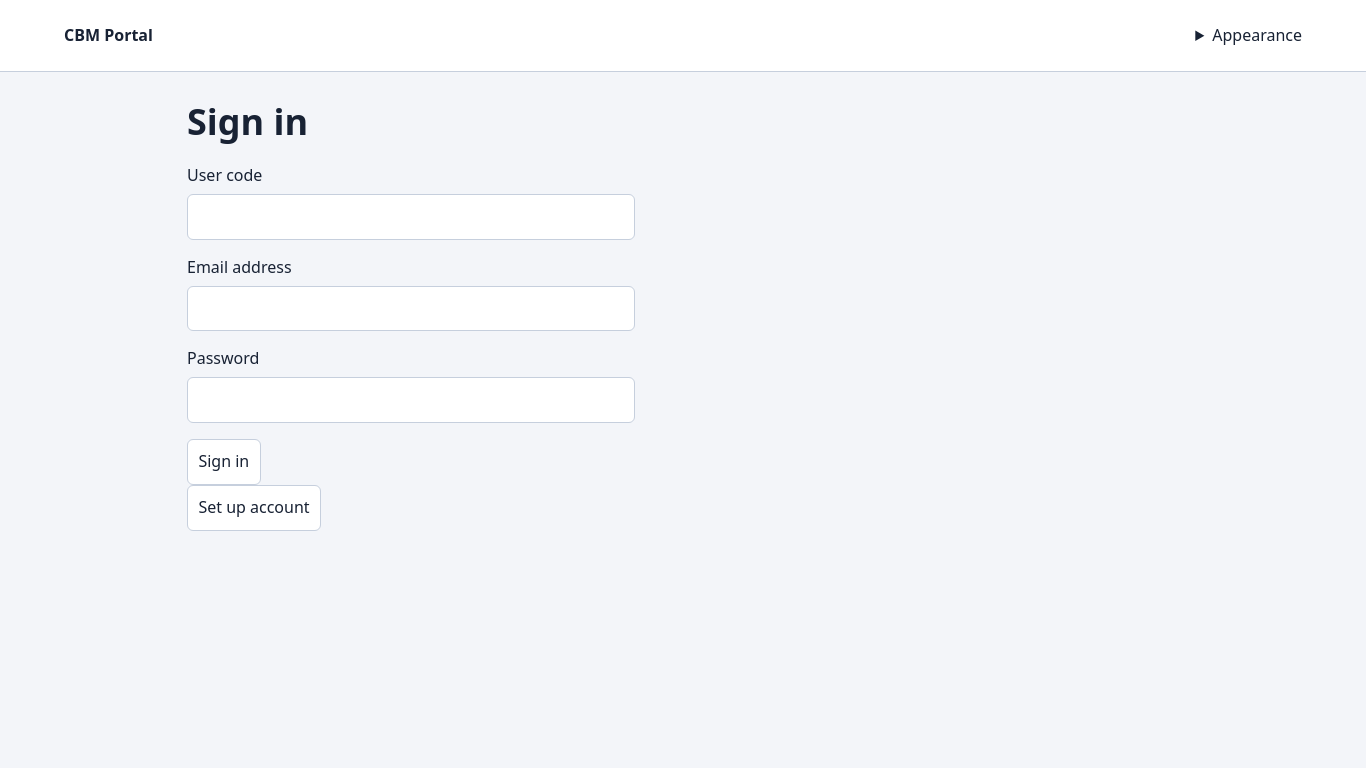
Scenario: enrolls a required authenticator before opening the workspace
Submit the form, box [187,164,635,485]
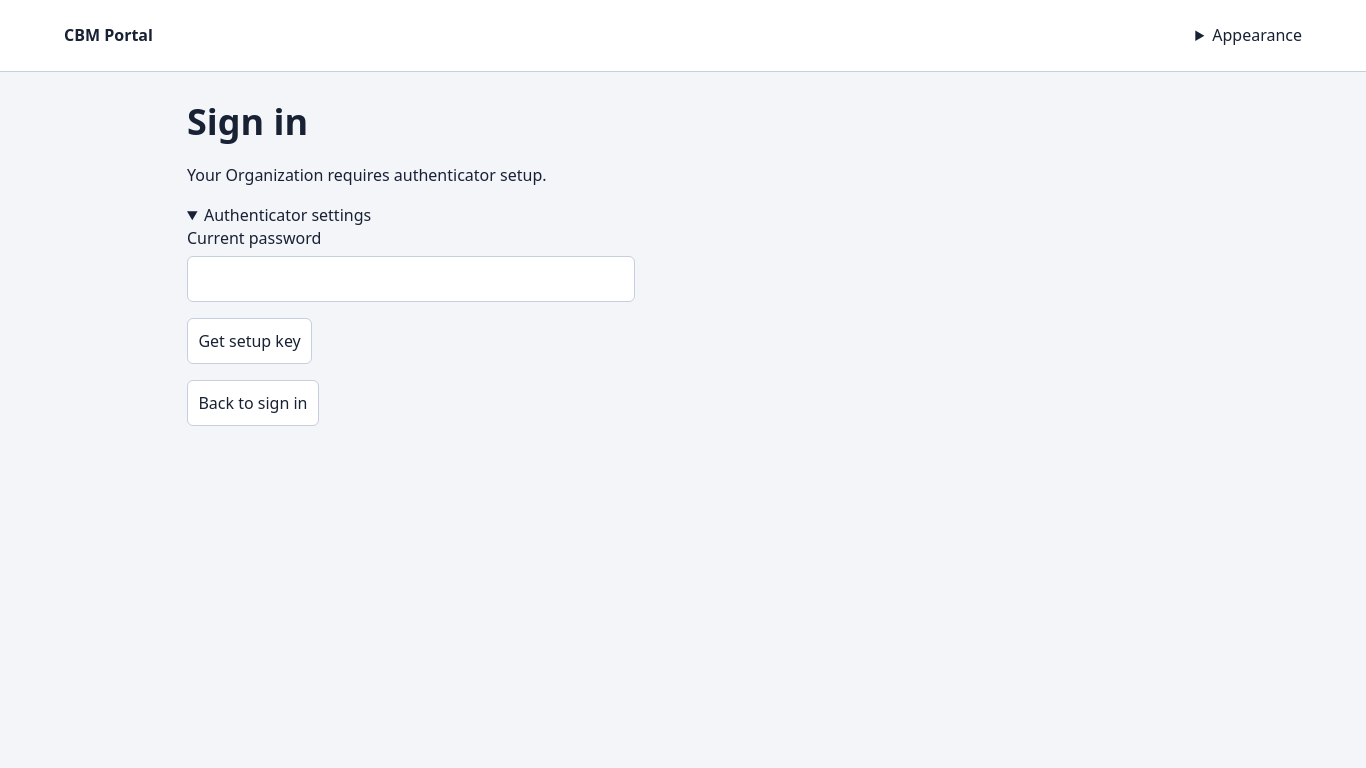
Expected: the text "Your Organization requires authenticator setup" is shown, [187,164,546,186]
In the password field labelled "Current password": (411, 279) [187,256,635,302], type "test-password"
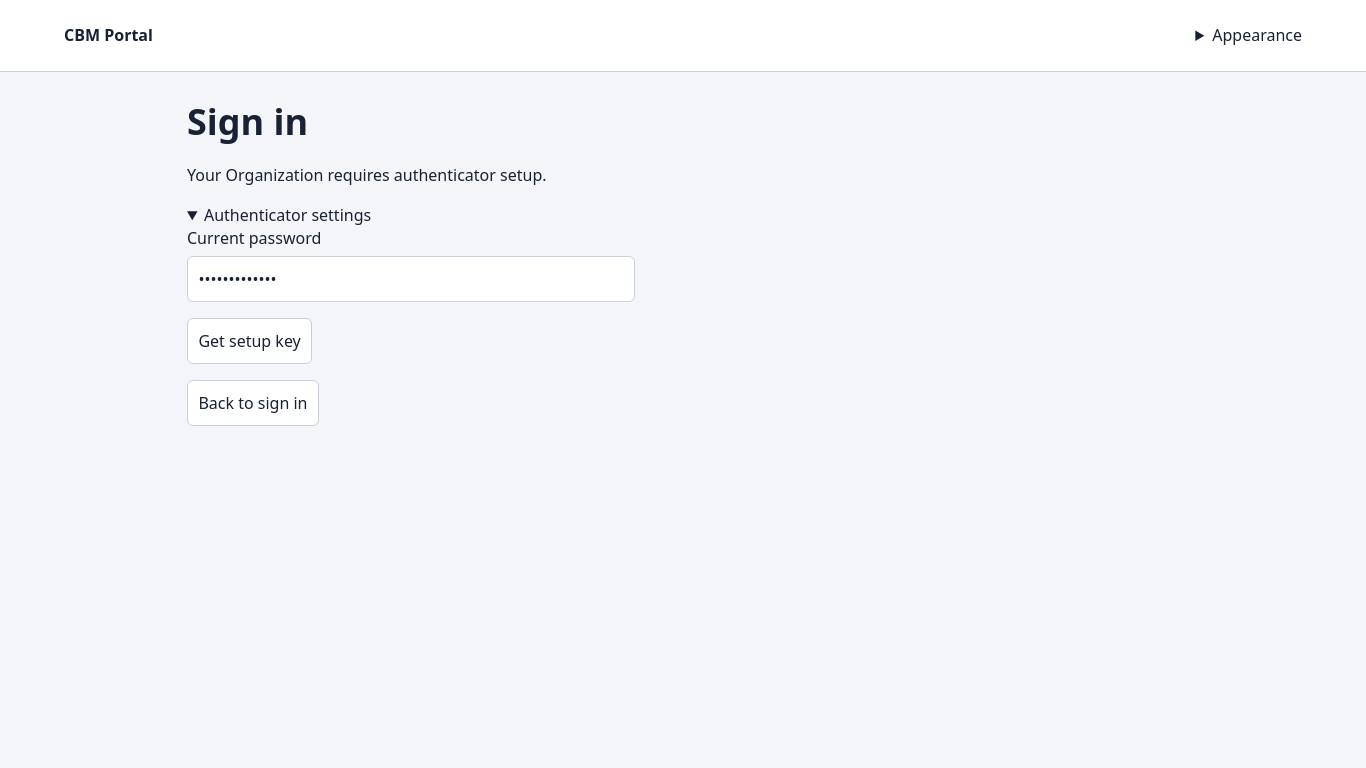
Submit the form, box [187,227,635,364]
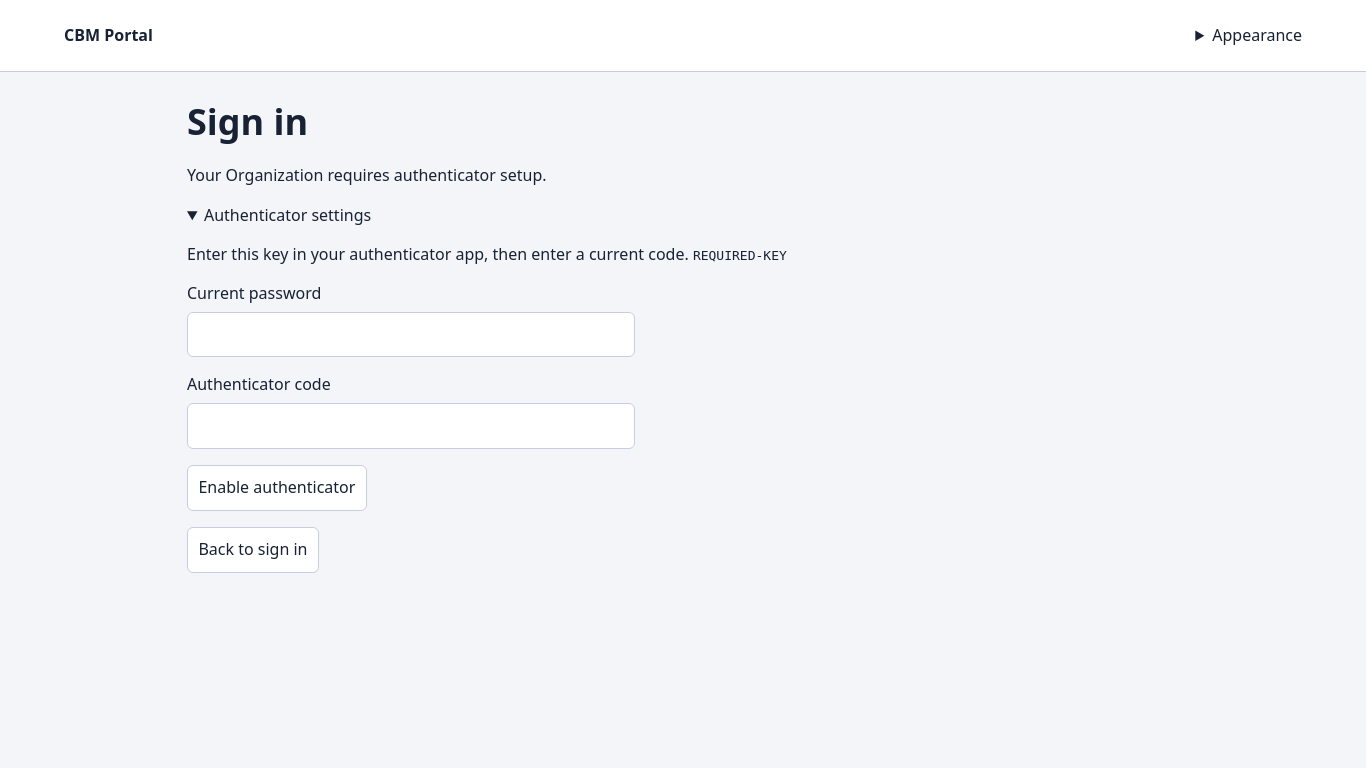
Expected: the text "REQUIRED-KEY" is shown, [693,248,787,263]
In the password field labelled "Current password": (411, 334) [187,312,635,358], type "test-password"
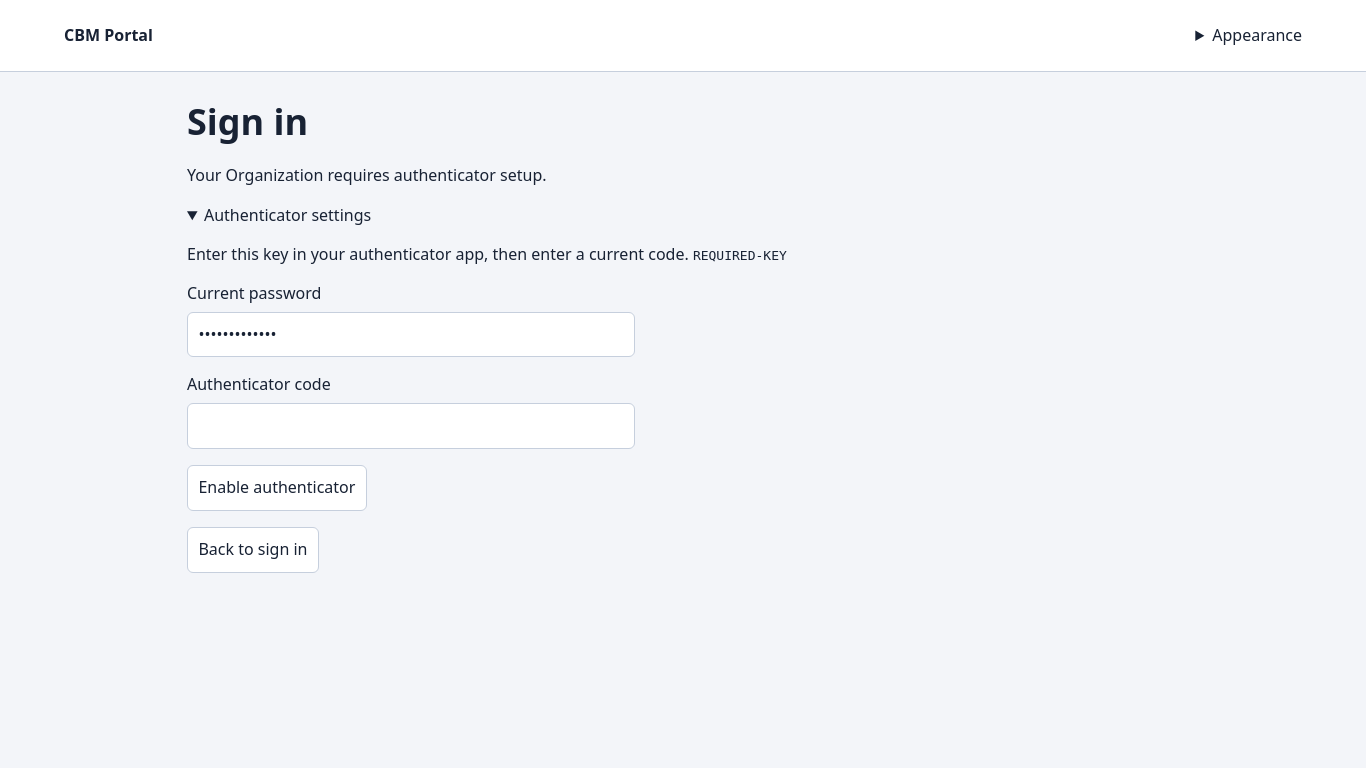
In the field labelled "Authenticator code": (411, 426) [187,403,635,449], type "012345"
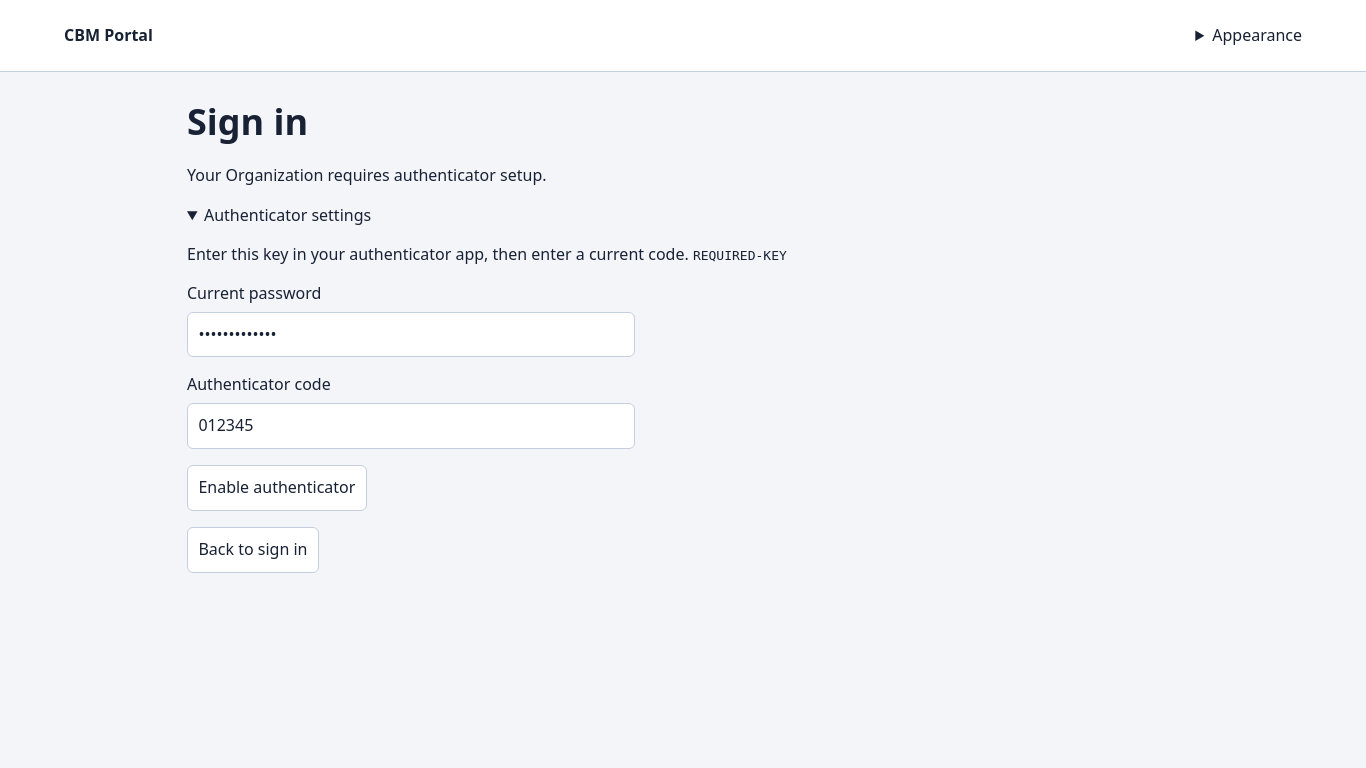
Submit the form, box [187,282,635,511]
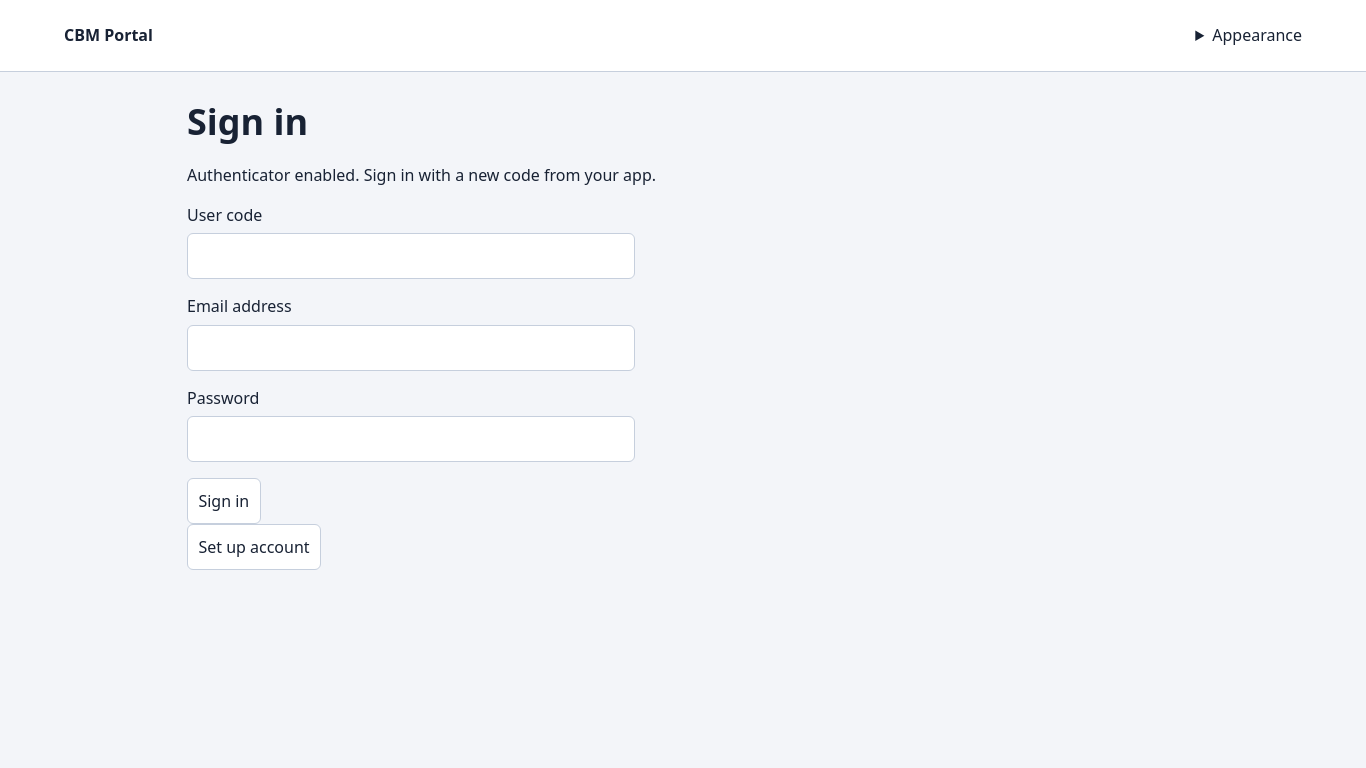
Expected: the text "Sign in with a new code from your app" is shown, [187,164,656,186]
